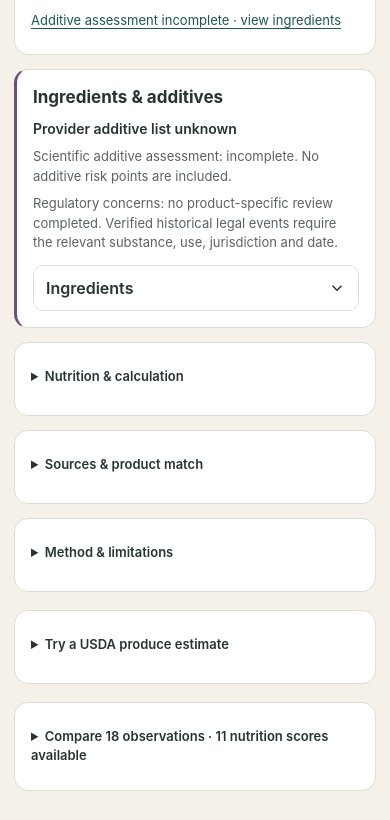
Test: changing generic reference invalidates confirmation; Gala remains unresolved
(page scrolled)
Click the heading "Try a USDA produce estimate". click: (137, 644)
box: [45, 636, 229, 652]
(page scrolled)
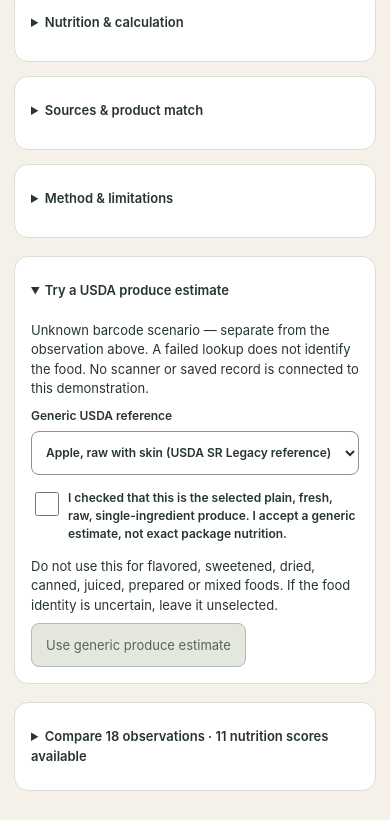
Click the checkbox. click: (47, 504)
box: [35, 492, 59, 516]
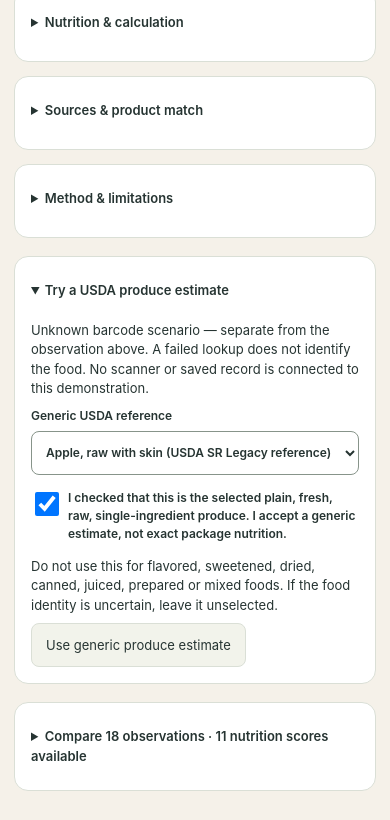
Click the button "Use generic produce estimate". click: (138, 645)
box: [31, 623, 246, 667]
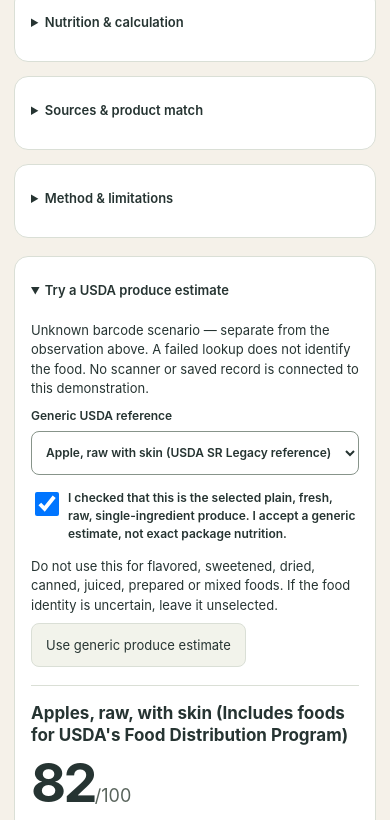
Select "Apples, gala, with skin, raw (USDA generic estimate)" in the dropdown labelled "Generic USDA reference". click: (195, 453)
box: [31, 431, 359, 475]
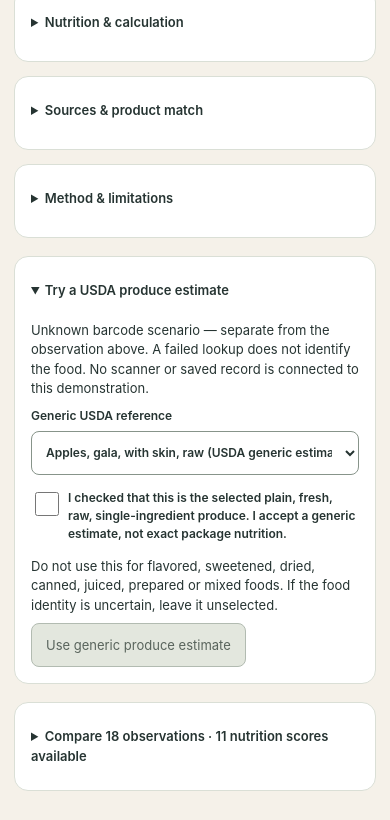
Expected: the checkbox is not checked
Click the checkbox. click: (47, 504)
box: [35, 492, 59, 516]
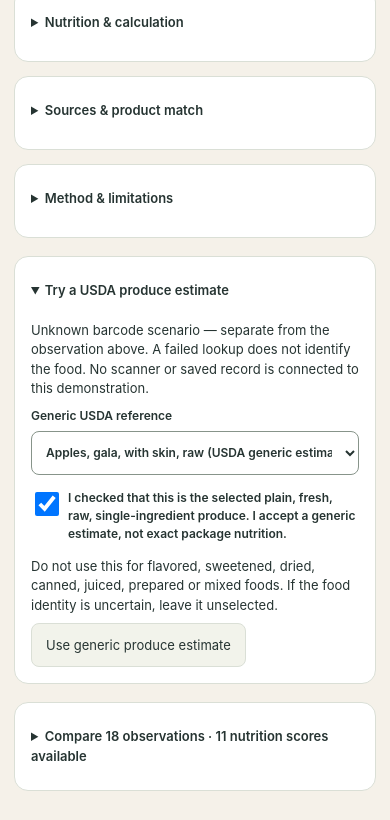
Click the button "Use generic produce estimate". click: (138, 645)
box: [31, 623, 246, 667]
(page scrolled)
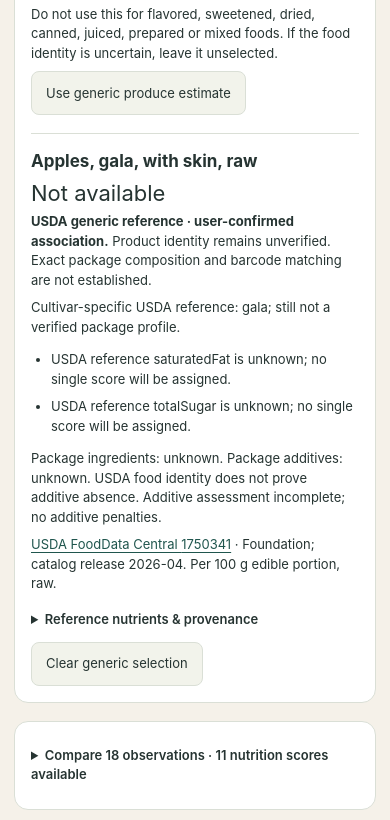
Expected: the element named "Generic nutrition rating" reads "Not available", [31, 180, 165, 206]
Expected: the element named "USDA produce estimate" shows "Cultivar-specific USDA reference: gala", [31, 299, 330, 335]
Expected: the element named "USDA produce estimate" shows "totalSugar is unknown", [51, 398, 353, 434]
